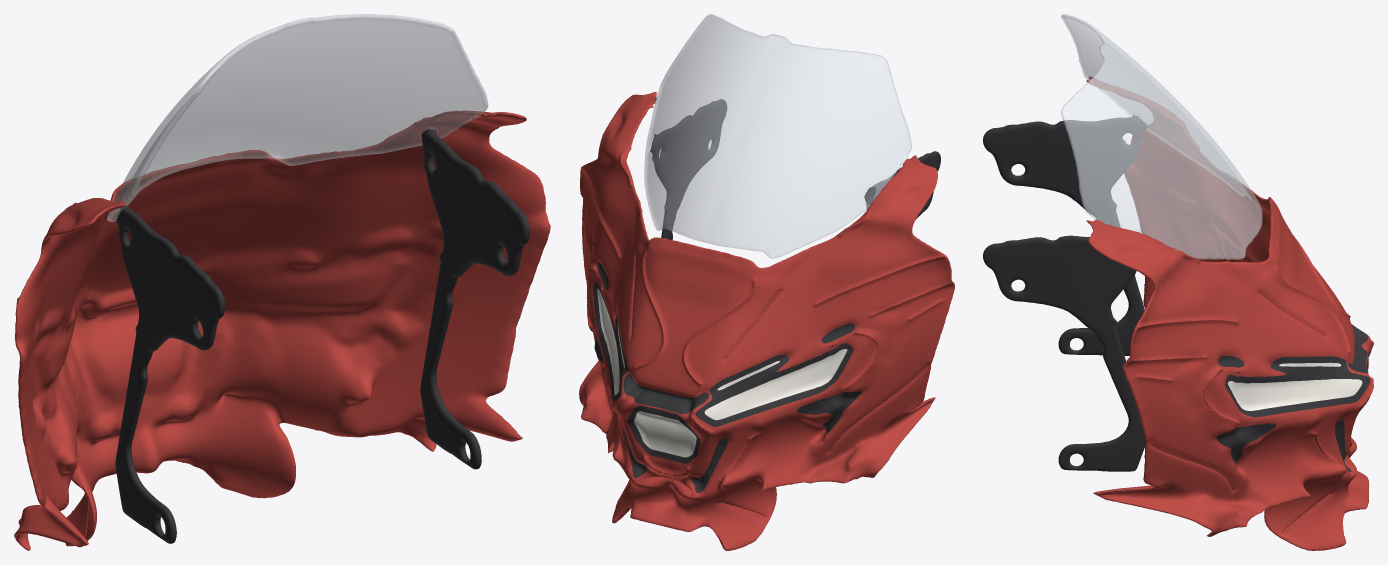
File: naked_3.glb
3 renders of one model, left to right at view 1: azimuth 30°, elevation 25°; view 2: azimuth 150°, elevation 25°; view 3: azimuth 270°, elevation 25°, orthographic. The views are drawn at different scales.
Parts seen in each view (by area): view 1: lod0; view 2: lod0; view 3: lod0.
Part boxes in pixels (x1,y1,x2,y2): lod0: (14,14,550,550); lod0: (579,14,954,550); lod0: (983,14,1373,550).
Size of what is drawn, in the model's own units: 0.4168 by 0.4528 by 0.3424.
